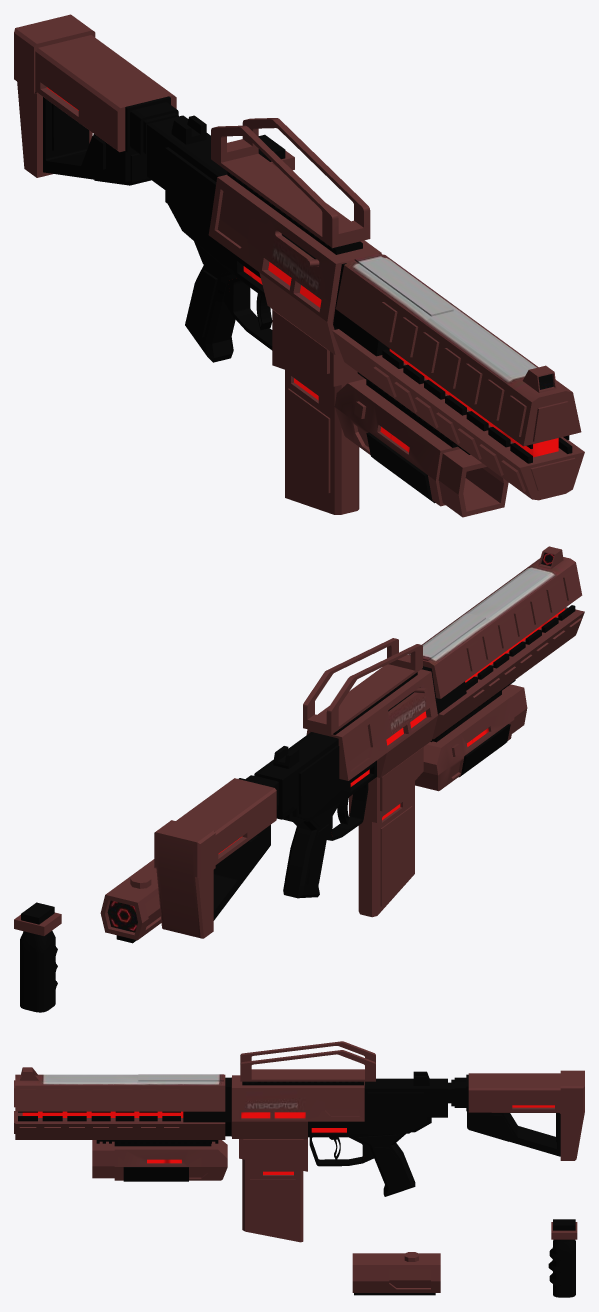
3 views of the same model, one above another, from view 1: azimuth 30°, elevation 25°; view 2: azimuth 150°, elevation 25°; view 3: azimuth 270°, elevation 25° (orthographic). The views are drawn at different scales.
Parts seen in each view (by area): view 1: Body2_WhiteCoat_0, Body2_BlackCoat_0, Body2_BlackShadow_0; view 2: Body2_WhiteCoat_0, Body2_BlackCoat_0, Body2_BlackShadow_0; view 3: Body2_WhiteCoat_0, Body2_BlackCoat_0, Body2_BlackShadow_0.
Boxes of the visible parts, x1,y1,x2,y2 form: Body2_WhiteCoat_0: [14, 14, 584, 517]; Body2_BlackCoat_0: [43, 96, 572, 503]; Body2_BlackShadow_0: [46, 87, 558, 457]; Body2_WhiteCoat_0: [14, 546, 584, 940]; Body2_BlackCoat_0: [20, 605, 575, 1012]; Body2_BlackShadow_0: [107, 552, 564, 932]; Body2_WhiteCoat_0: [14, 1041, 584, 1292]; Body2_BlackCoat_0: [18, 1071, 575, 1297]; Body2_BlackShadow_0: [22, 1073, 554, 1174].
Size of the model in its own units: 0.2459 by 0.3086 by 0.8273.
4 materials, 2 textured.
